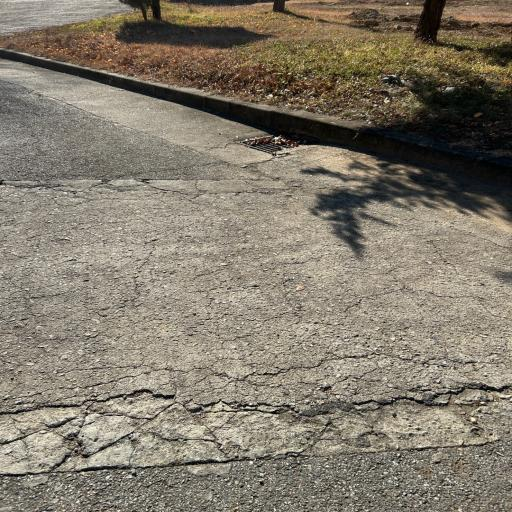debris: (255, 137, 269, 143), (288, 141, 298, 147)
drain: (240, 133, 319, 153)
